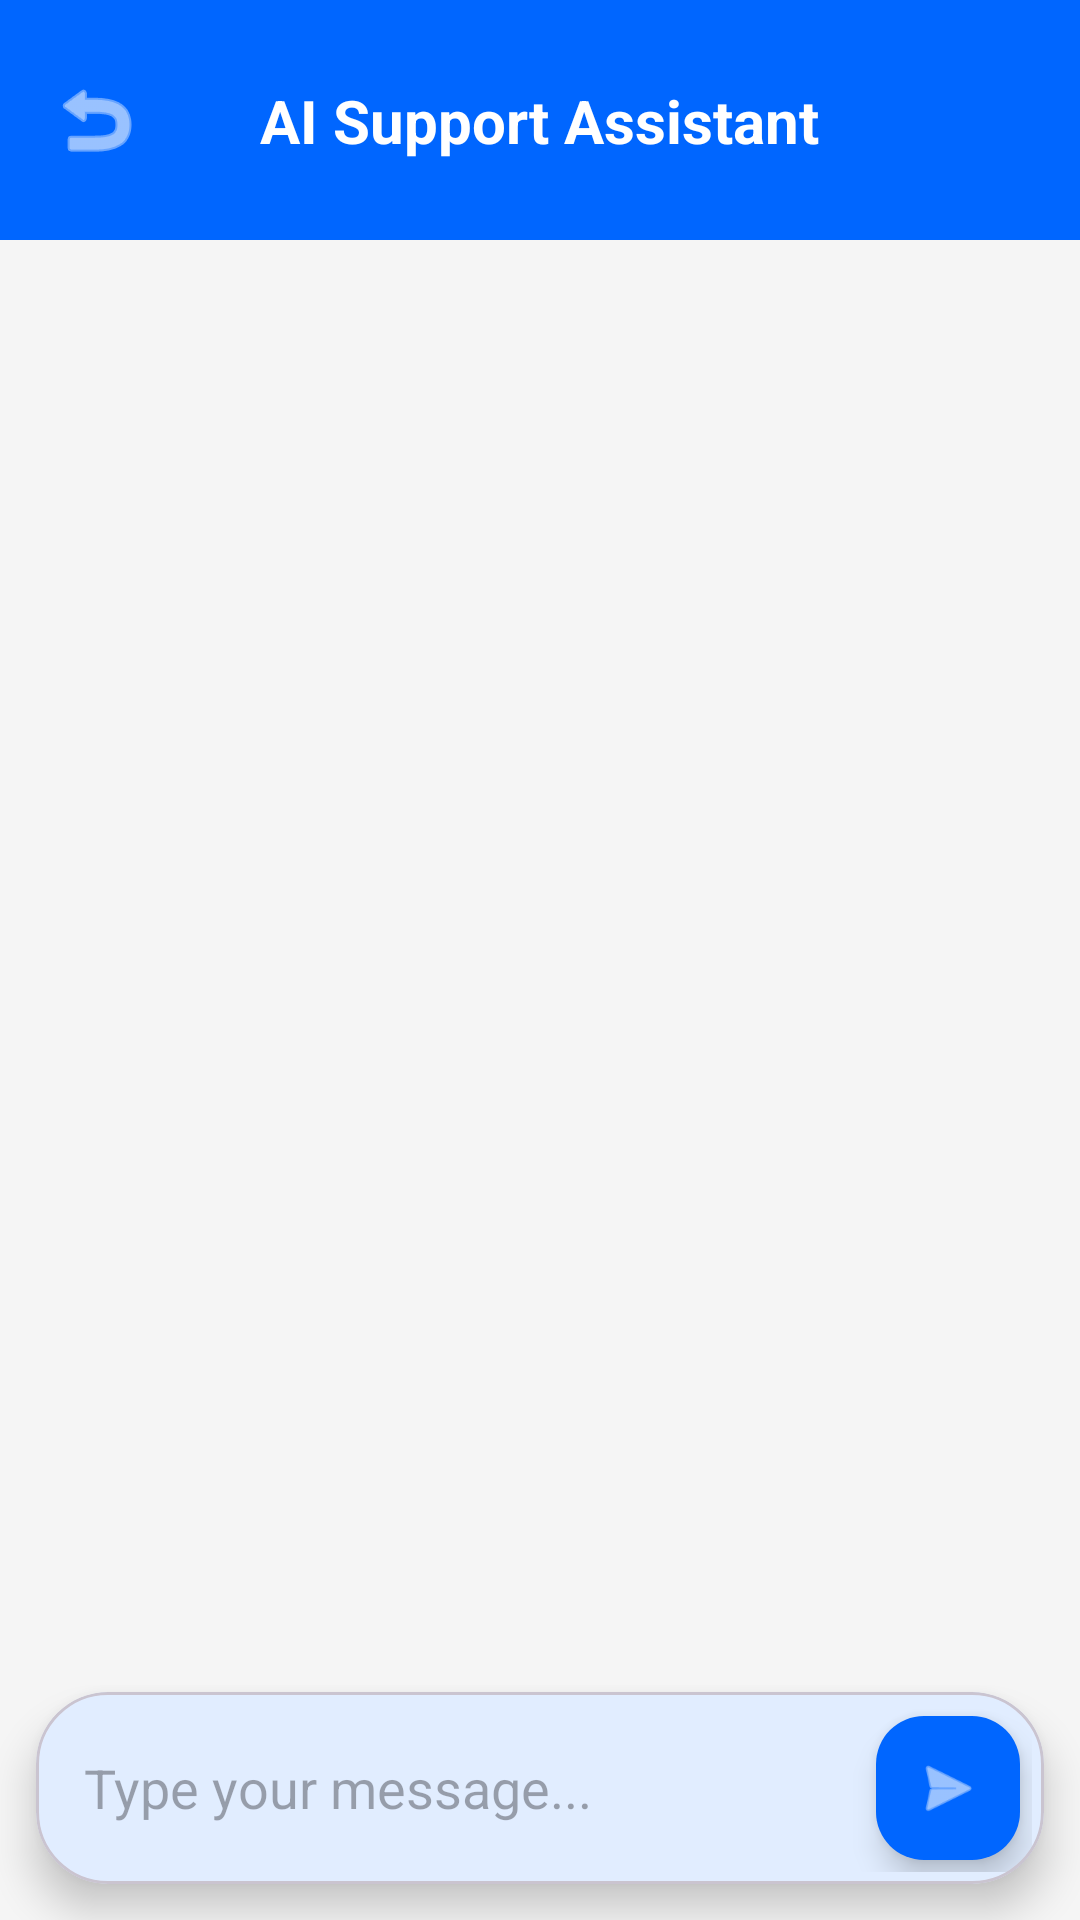

Icons on this 1080px x 1920px Android screen, each with its box as {"x1": x1, "y1": y1, "x2": x2, "y2": y2}:
Back: {"x1": 63, "y1": 89, "x2": 132, "y2": 152}
Send: {"x1": 876, "y1": 1716, "x2": 1020, "y2": 1860}
